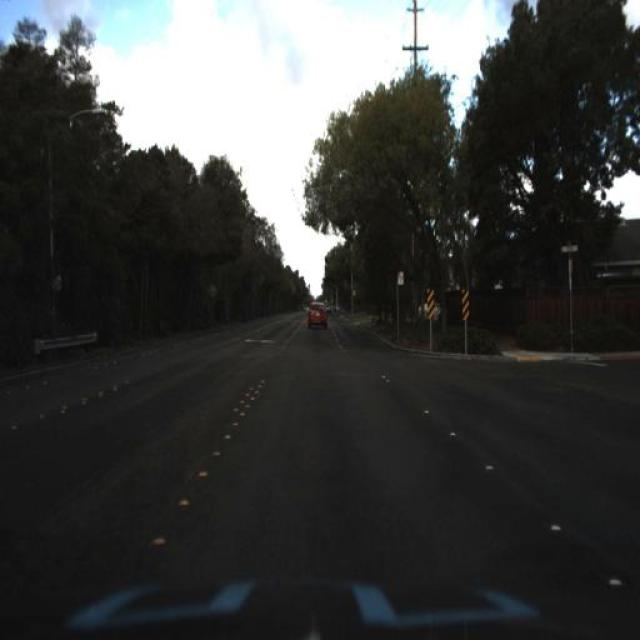car: (305, 293, 333, 338)
